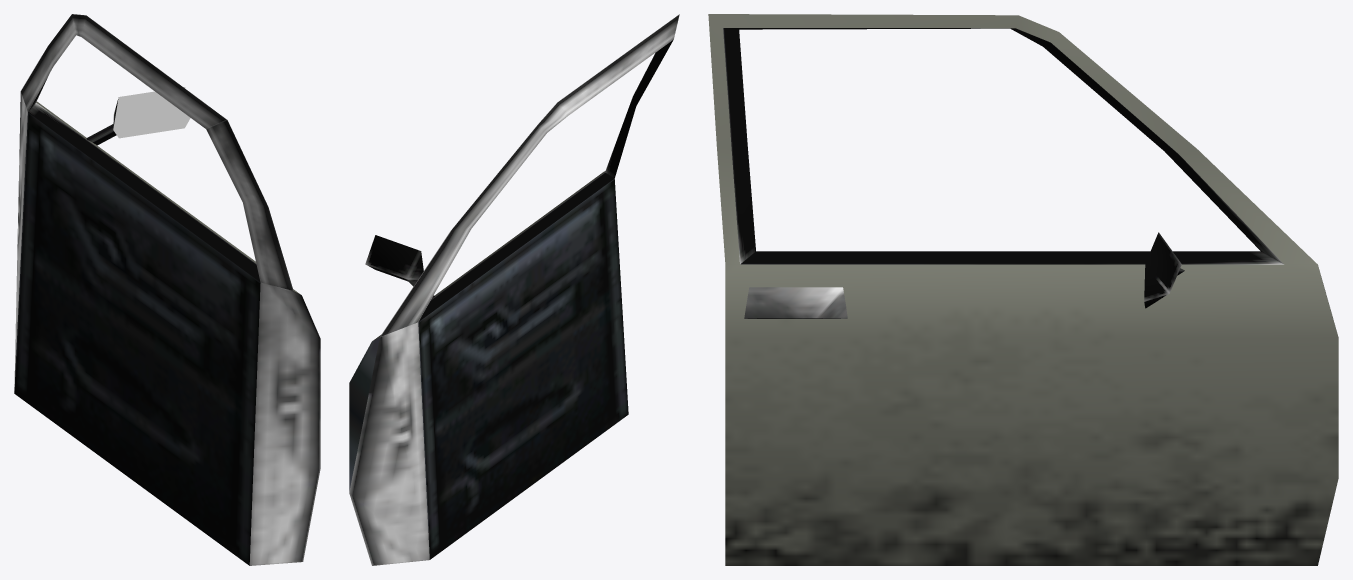
The model's file is door_fr.fbx.
The picture shows the model from 3 angles, left to right: view 1: azimuth 30°, elevation 25°; view 2: azimuth 150°, elevation 25°; view 3: azimuth 270°, elevation 25°; orthographic projection. The views are drawn at different scales.
Visible parts, largest first — view 1: node_3f1331c3_425b_4530_be0c_c67f70f4e8e3_mesh0, node_ff875769_1c61_49b2_8a6a_36c97c8dbe46_mesh0, node_0b5e9538_4fdd_4a2d_9e56_9be19ef76bd9_mesh0, node_807de0ca_94d5_4352_a7c7_d075facfaad2_mesh0, node_e2fd38a4_f20d_4d1e_9cba_664230d0359d_mesh0; view 2: node_3f1331c3_425b_4530_be0c_c67f70f4e8e3_mesh0, node_ff875769_1c61_49b2_8a6a_36c97c8dbe46_mesh0, node_0b5e9538_4fdd_4a2d_9e56_9be19ef76bd9_mesh0, node_bdb49564_dd47_40ba_a4d1_71bb37efd2a1_mesh0; view 3: node_e2fd38a4_f20d_4d1e_9cba_664230d0359d_mesh0, node_0b5e9538_4fdd_4a2d_9e56_9be19ef76bd9_mesh0, node_bdb49564_dd47_40ba_a4d1_71bb37efd2a1_mesh0.
Part boxes in pixels (x1,y1,x2,y2): node_3f1331c3_425b_4530_be0c_c67f70f4e8e3_mesh0: (14, 112, 260, 565); node_ff875769_1c61_49b2_8a6a_36c97c8dbe46_mesh0: (14, 14, 320, 565); node_0b5e9538_4fdd_4a2d_9e56_9be19ef76bd9_mesh0: (28, 75, 260, 281); node_807de0ca_94d5_4352_a7c7_d075facfaad2_mesh0: (113, 87, 190, 138); node_e2fd38a4_f20d_4d1e_9cba_664230d0359d_mesh0: (36, 101, 300, 294); node_3f1331c3_425b_4530_be0c_c67f70f4e8e3_mesh0: (349, 179, 628, 559); node_ff875769_1c61_49b2_8a6a_36c97c8dbe46_mesh0: (349, 14, 679, 565); node_0b5e9538_4fdd_4a2d_9e56_9be19ef76bd9_mesh0: (407, 39, 673, 321); node_bdb49564_dd47_40ba_a4d1_71bb37efd2a1_mesh0: (365, 235, 423, 281); node_e2fd38a4_f20d_4d1e_9cba_664230d0359d_mesh0: (708, 14, 1338, 565); node_0b5e9538_4fdd_4a2d_9e56_9be19ef76bd9_mesh0: (723, 28, 1283, 275); node_bdb49564_dd47_40ba_a4d1_71bb37efd2a1_mesh0: (744, 232, 1181, 318).
Bounding box in the file's own units: 45.31 × 119 × 133.
